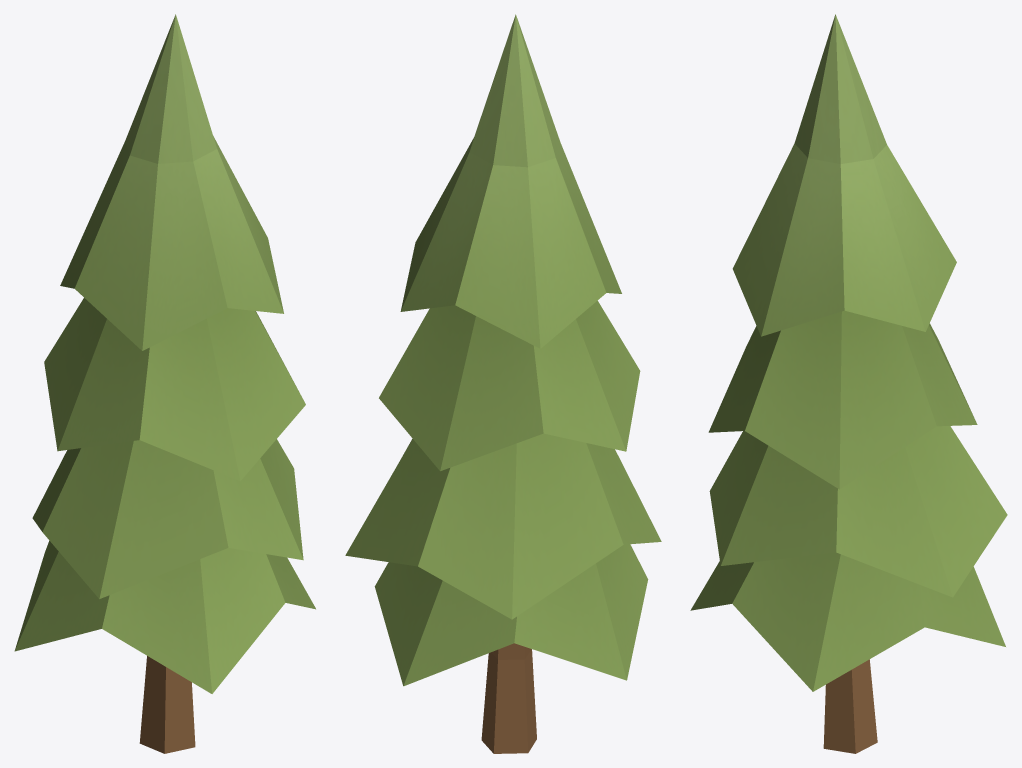
File: Pine_Tree_m_03_LOD.fbx
3 renders of one model, left to right at view 1: azimuth 30°, elevation 25°; view 2: azimuth 150°, elevation 25°; view 3: azimuth 270°, elevation 25°, orthographic.
Visible parts, largest first — view 1: Pine_Tree_m_03_LOD0; view 2: Pine_Tree_m_03_LOD0; view 3: Pine_Tree_m_03_LOD0.
Boxes of the visible parts, bbox=[...] form: Pine_Tree_m_03_LOD0: bbox=[14, 14, 315, 753]; Pine_Tree_m_03_LOD0: bbox=[345, 14, 661, 753]; Pine_Tree_m_03_LOD0: bbox=[690, 14, 1007, 753].
Size of what is drawn, in the model's own units: 352 by 925 by 366.
